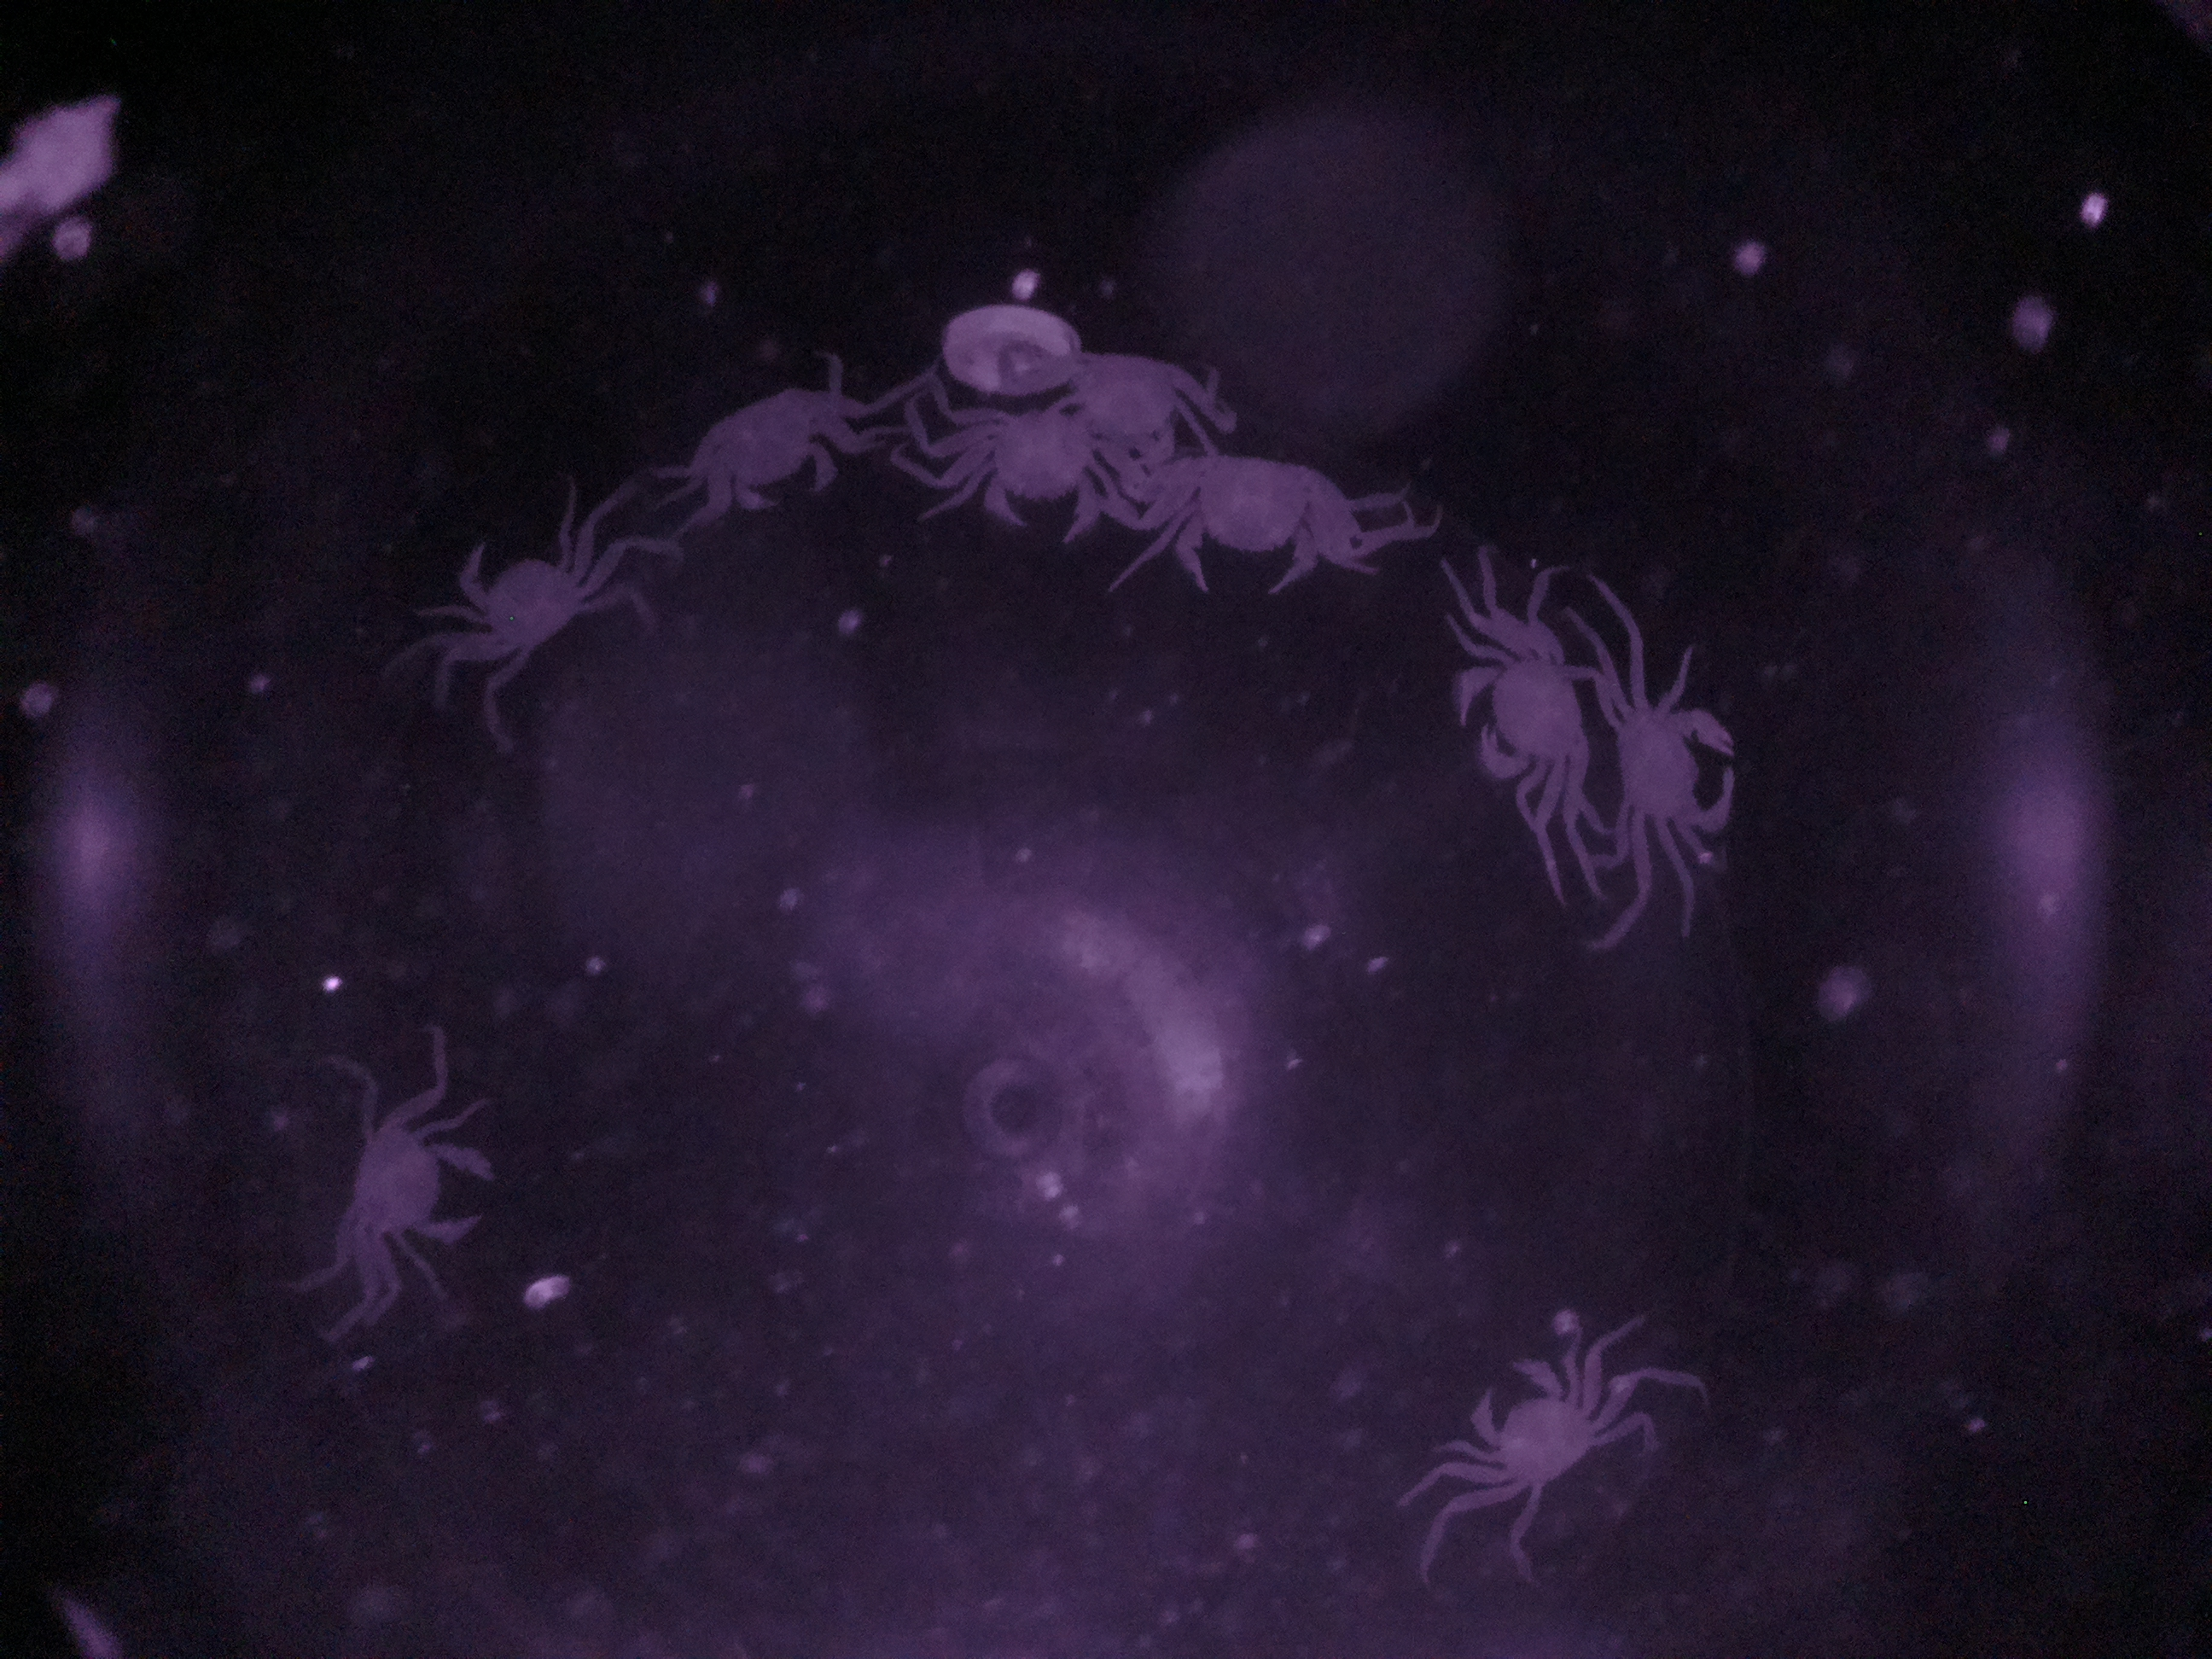Crab: (310, 1096, 526, 1279), (428, 484, 599, 709), (1155, 423, 1352, 613), (1437, 613, 1602, 838), (932, 375, 1130, 556), (1449, 1338, 1629, 1525), (1604, 659, 1759, 870), (674, 366, 869, 533)
